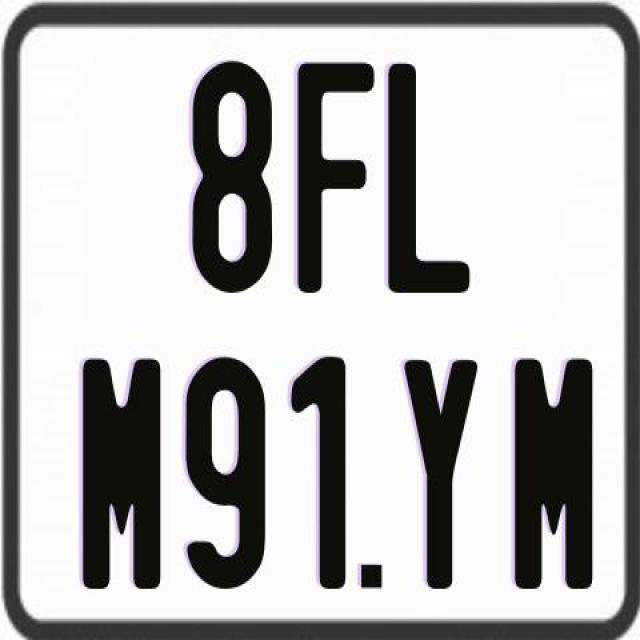1: (286, 352, 346, 589)
8: (192, 56, 275, 294)
9: (186, 355, 266, 592)
F: (298, 62, 382, 301)
L: (385, 62, 475, 293)
M: (512, 354, 595, 588), (81, 357, 160, 597)
Y: (404, 361, 486, 594)
